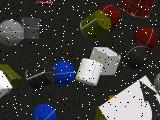Left: (99, 75, 160, 120)
